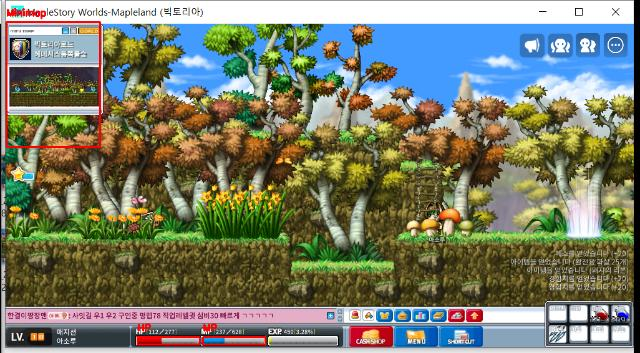me: (420, 198, 446, 243)
pig: (139, 209, 161, 235)
